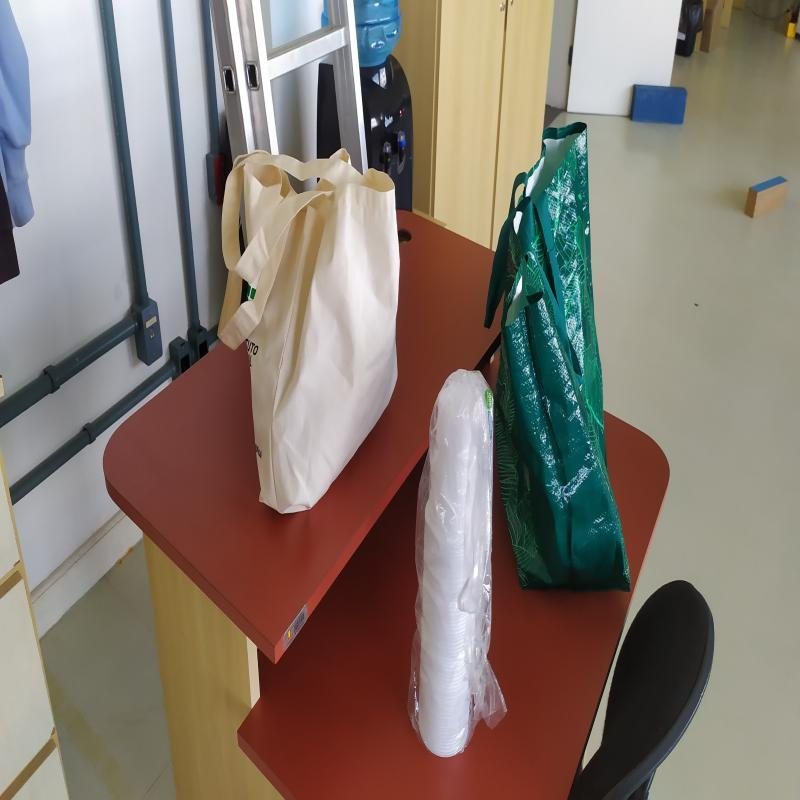Bag: (484, 117, 632, 600), (217, 147, 401, 524)
